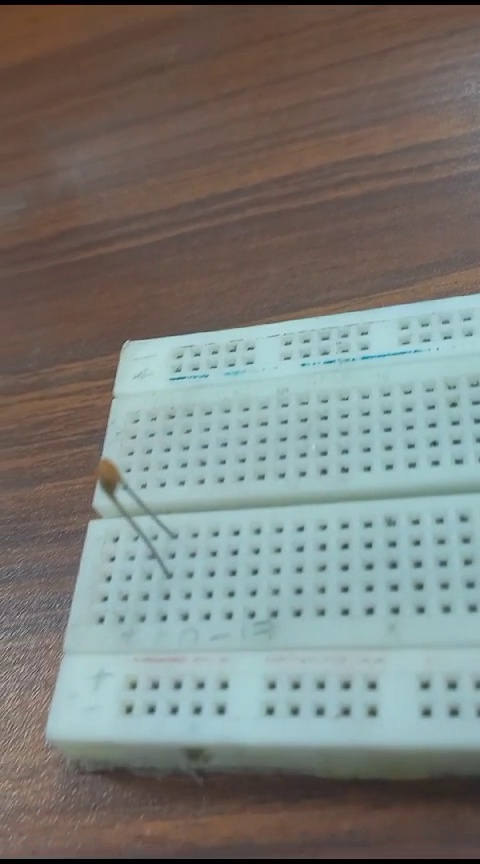ceramic capacitor: (92, 460, 183, 587)
